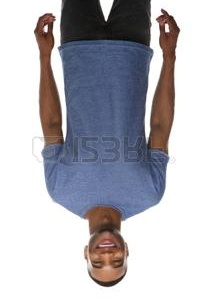arm: (38, 53, 69, 204), (149, 56, 175, 207)
chest: (65, 43, 147, 205)
face: (88, 235, 129, 286)
hand: (158, 9, 178, 55), (35, 12, 56, 52)
leg: (107, 1, 150, 44), (61, 1, 106, 41)
neck: (88, 206, 123, 234)
